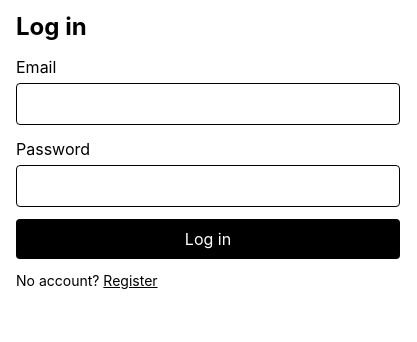
Test: failed login shows an error message
The width and height of the screenshot is (417, 342).
Type "a@b.com" into the field labelled "Email" at (208, 104), box [16,83,400,125]
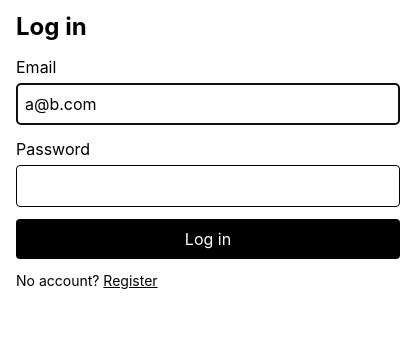
Type "wrong" into the password field labelled "Password" at (208, 186), box [16,165,400,207]
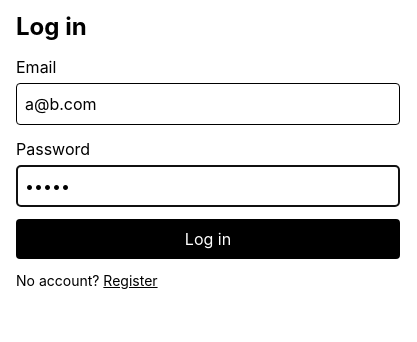
Click the button "Log in" at (208, 239), box [16,219,400,259]
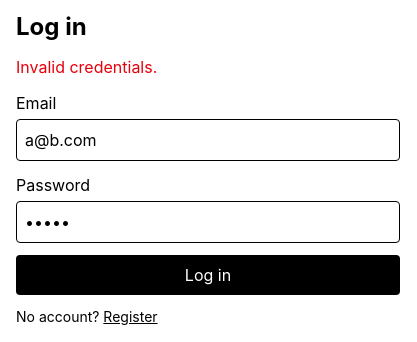
Expected: the text "Invalid credentials." is shown, [16,57,157,77]
